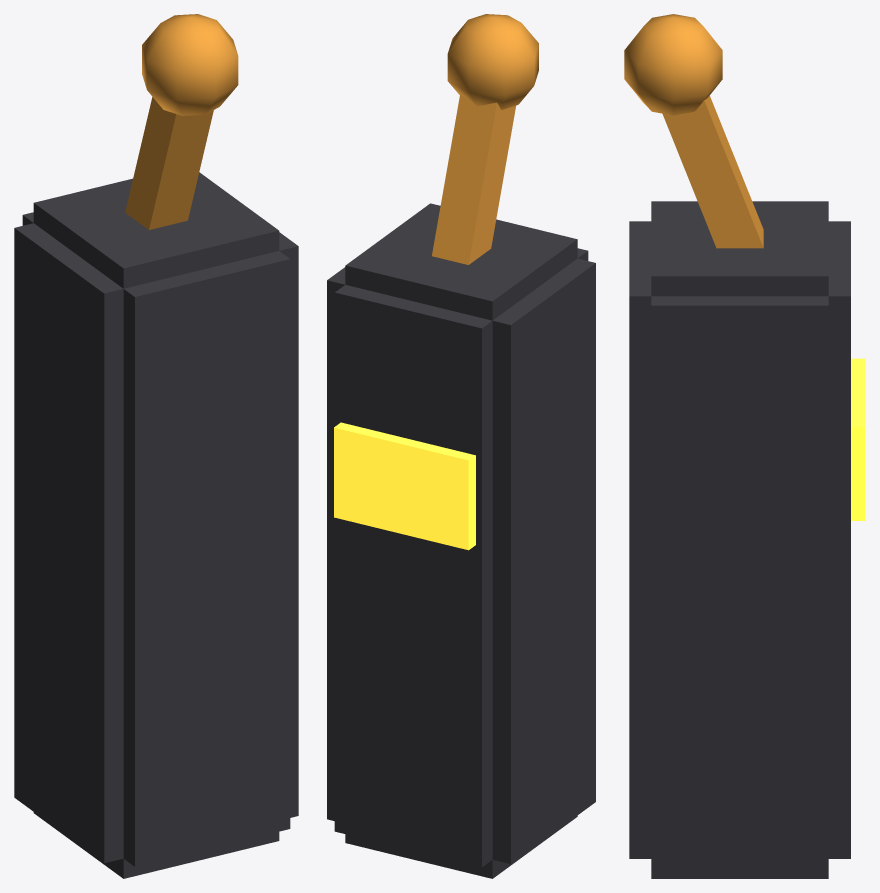
File: yard_lever.glb
3 renders of one model, left to right at view 1: azimuth 30°, elevation 25°; view 2: azimuth 150°, elevation 25°; view 3: azimuth 270°, elevation 25°, orthographic. The views are drawn at different scales.
Visible parts, largest first — view 1: yard_lever; view 2: yard_lever; view 3: yard_lever.
Boxes of the visible parts, x1,y1,x2,y2 form: yard_lever: [14, 14, 298, 878]; yard_lever: [327, 14, 595, 878]; yard_lever: [624, 14, 865, 878].
Bounding box in the file's own units: 0.3 × 1.23 × 0.3266.
